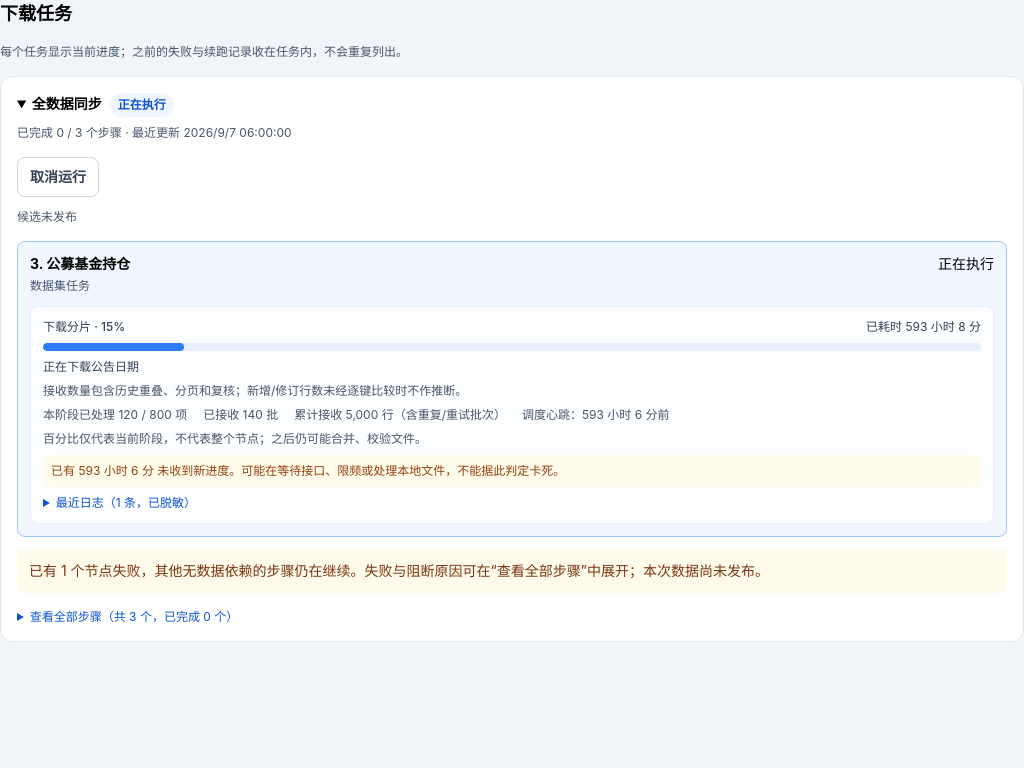
Test: 失败隔离后顶部优先展示仍运行的独立节点而非之前失败节点
Expected: the text "3. 公募基金持仓" is shown, [30,254,130,274]
Expected: the text "1. 指数权重" is not shown
Click the heading "查看全部步骤（共 3 个，已完成 0 个）" at {"x": 134, "y": 616}, box [30,609,238,624]
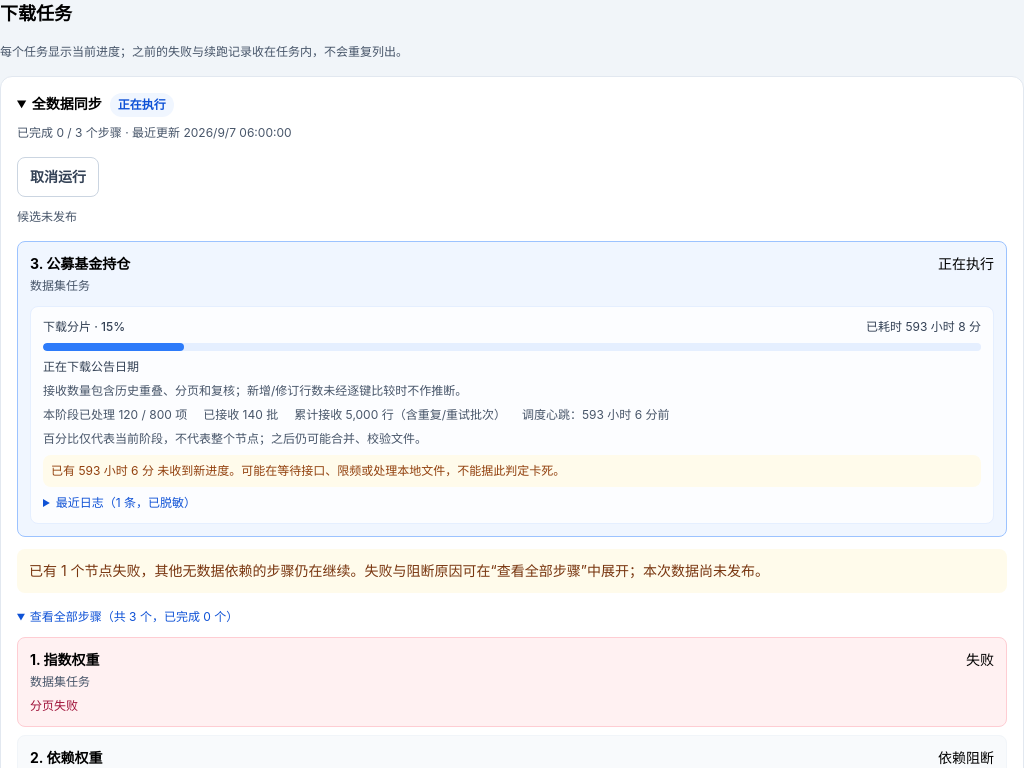
Expected: the text "分页失败" is shown, [30,698,78,713]
